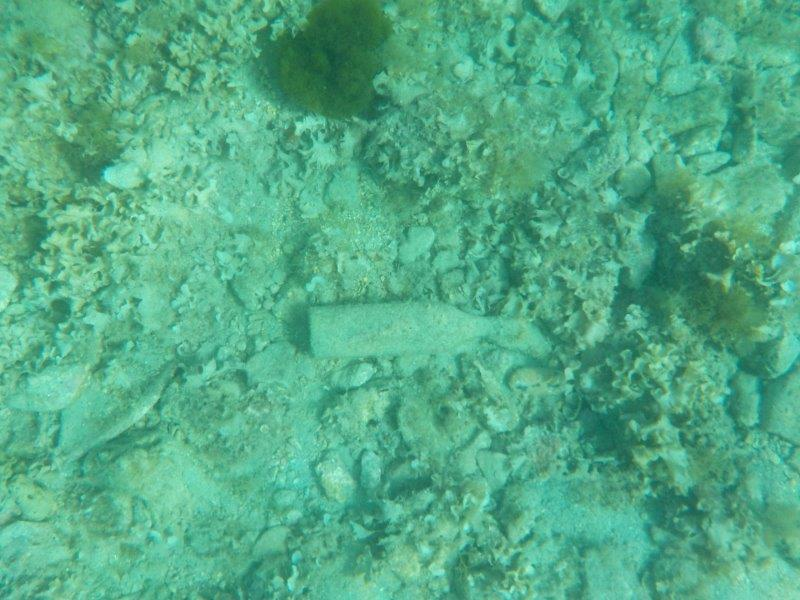bottle: (302, 297, 527, 361)
